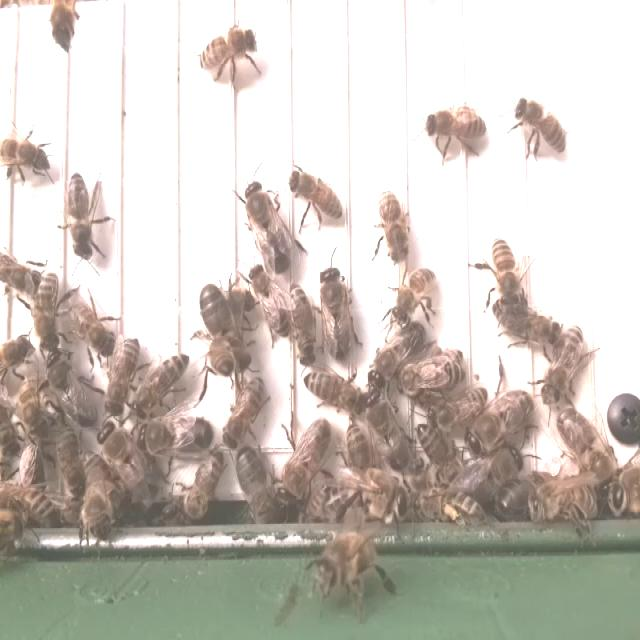Drone: (275, 414, 335, 508), (194, 279, 254, 372), (462, 384, 539, 455), (241, 177, 296, 276), (316, 264, 356, 364), (136, 415, 218, 460)
Worker: (539, 322, 589, 410), (129, 351, 194, 416), (510, 92, 570, 153), (386, 263, 438, 330), (247, 261, 290, 342), (219, 376, 264, 452), (287, 166, 345, 222), (374, 186, 413, 267), (104, 334, 143, 415), (66, 167, 98, 265), (197, 26, 261, 74), (299, 366, 358, 418), (423, 102, 489, 147), (34, 266, 64, 354), (490, 233, 524, 307), (291, 280, 318, 365)
